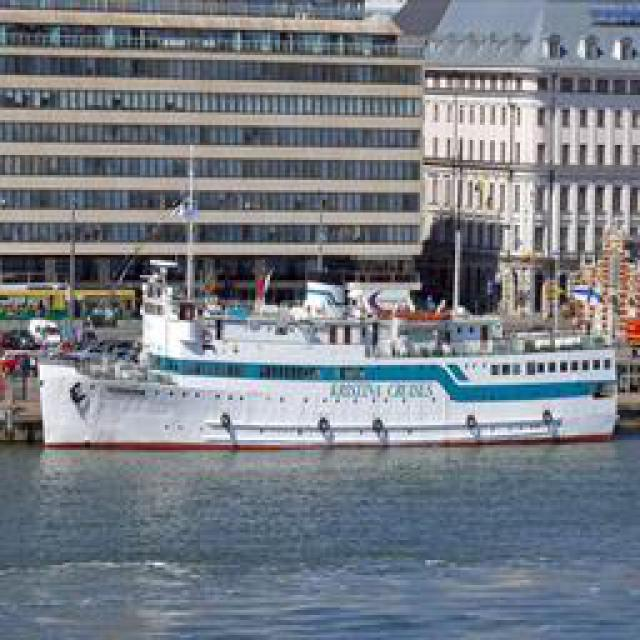Ship: (32, 273, 622, 451)
